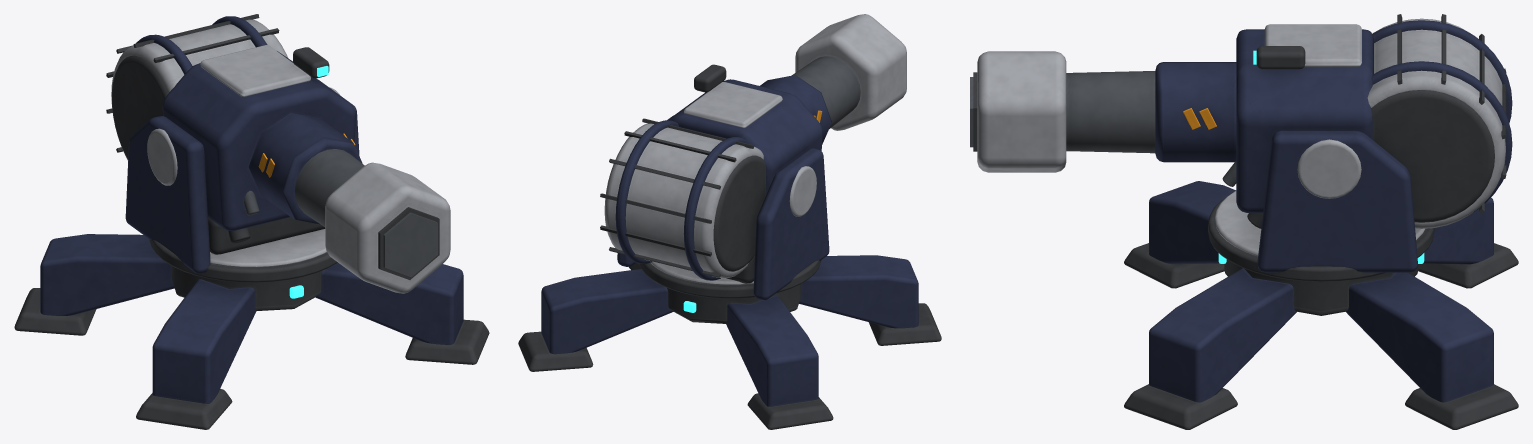
Rendered from mule_midnight_steel.glb.
3 renders of one model, left to right at view 1: azimuth 30°, elevation 25°; view 2: azimuth 150°, elevation 25°; view 3: azimuth 270°, elevation 25°, orthographic. The views are drawn at different scales.
Parts seen in each view (by area): view 1: Mule_Head, Mule_Base; view 2: Mule_Head, Mule_Base; view 3: Mule_Head, Mule_Base.
Boxes of the visible parts, x1,y1,x2,y2 form: Mule_Head: (106,14,450,293); Mule_Base: (14,229,489,429); Mule_Head: (600,14,906,299); Mule_Base: (518,255,941,429); Mule_Head: (970,14,1512,272); Mule_Base: (1124,181,1518,429).
Size of the model in its own units: 2.77 by 2.11 by 3.39.
Materials: 6 (5 with a texture image).
